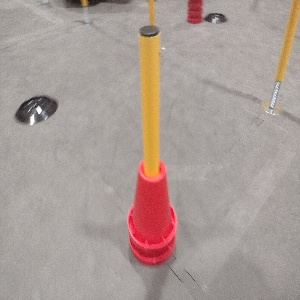Red_2: (121, 159, 179, 267)
Red_3: (186, 0, 203, 22)
